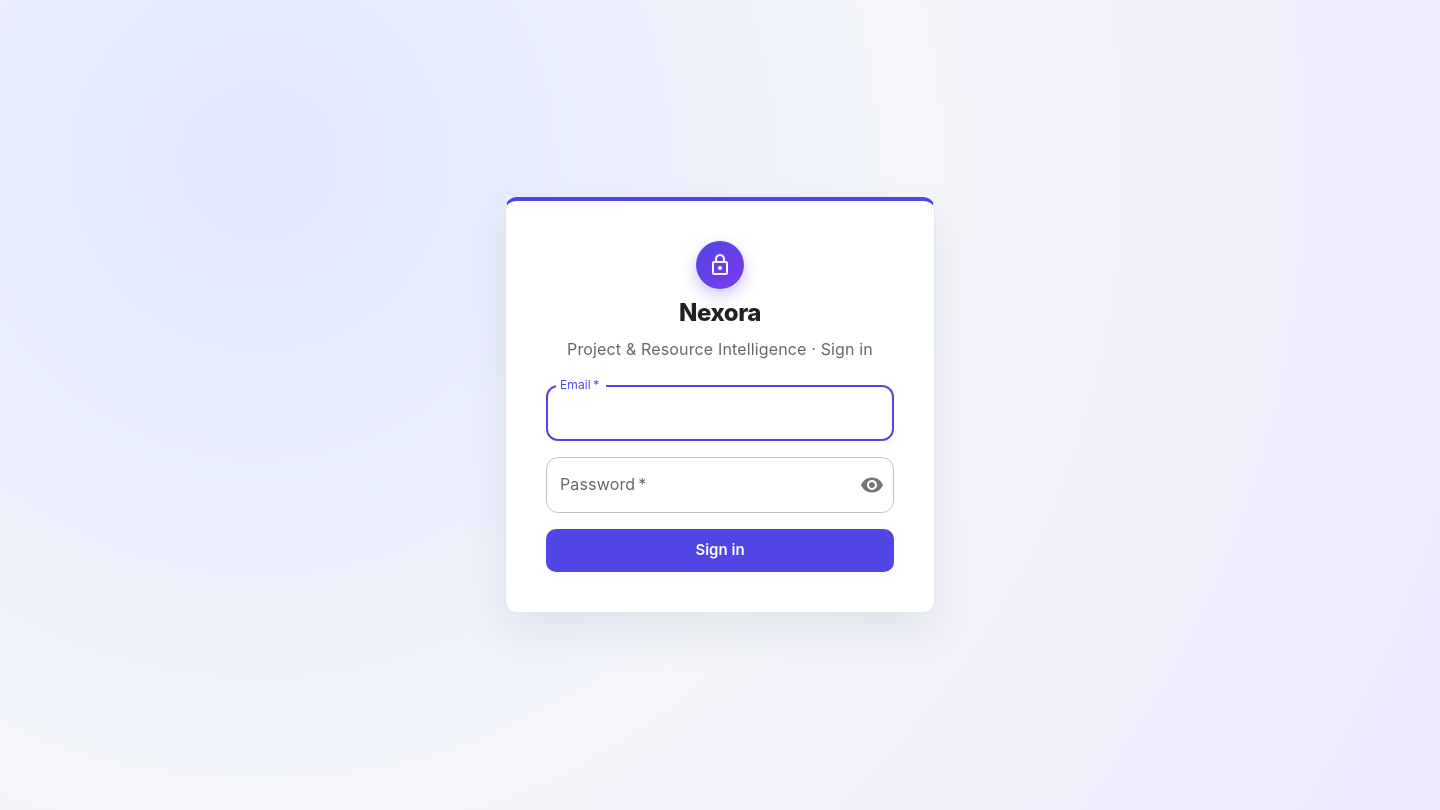
Test case: LoginPage › shows the API error for bad credentials
The width and height of the screenshot is (1440, 810).
Type "admin@acme.com" into the field labelled "Email *" at (720, 413), box top-left (546, 385), bottom-right (894, 441)
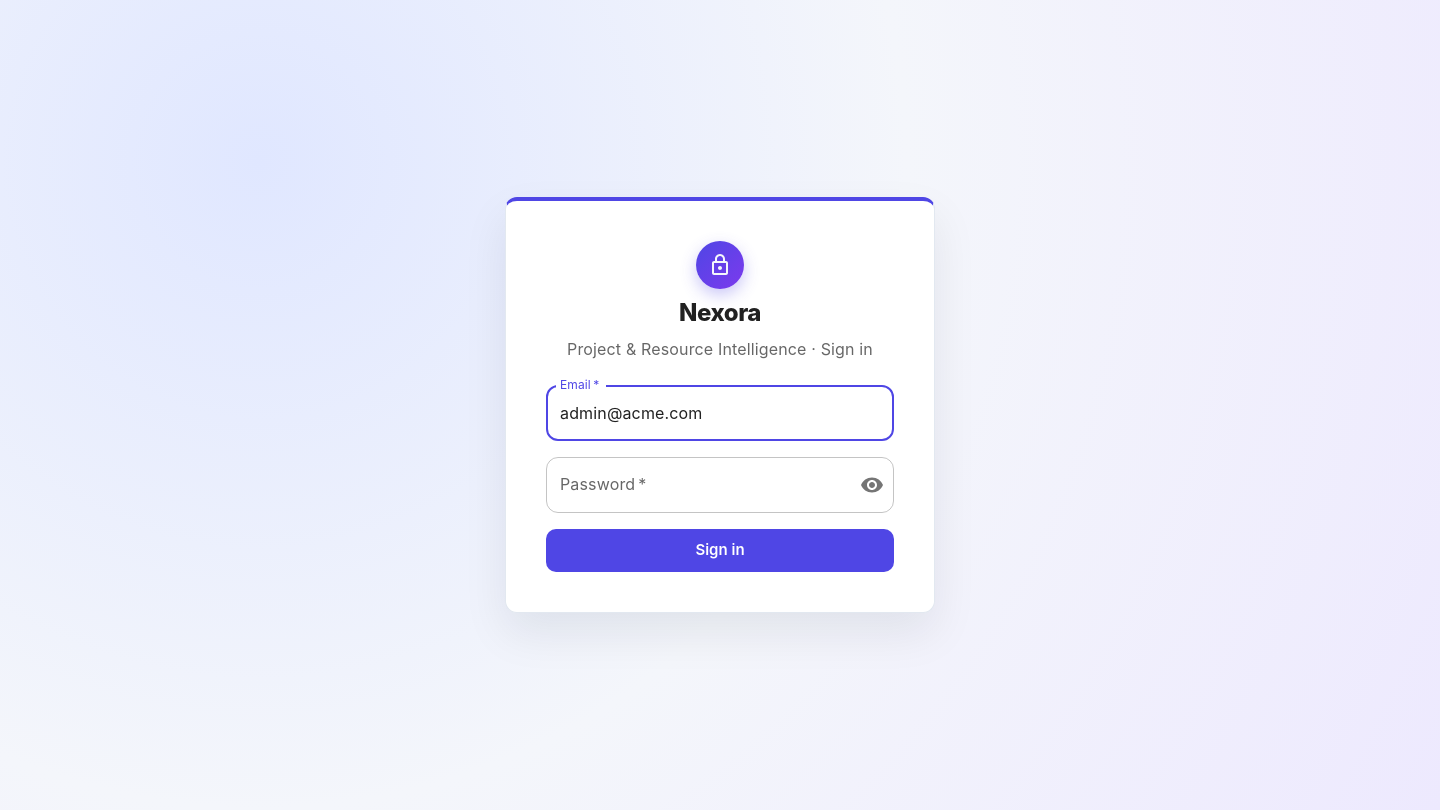
Type "wrong" into the password field labelled "Password *" at (695, 485), box top-left (546, 457), bottom-right (844, 513)
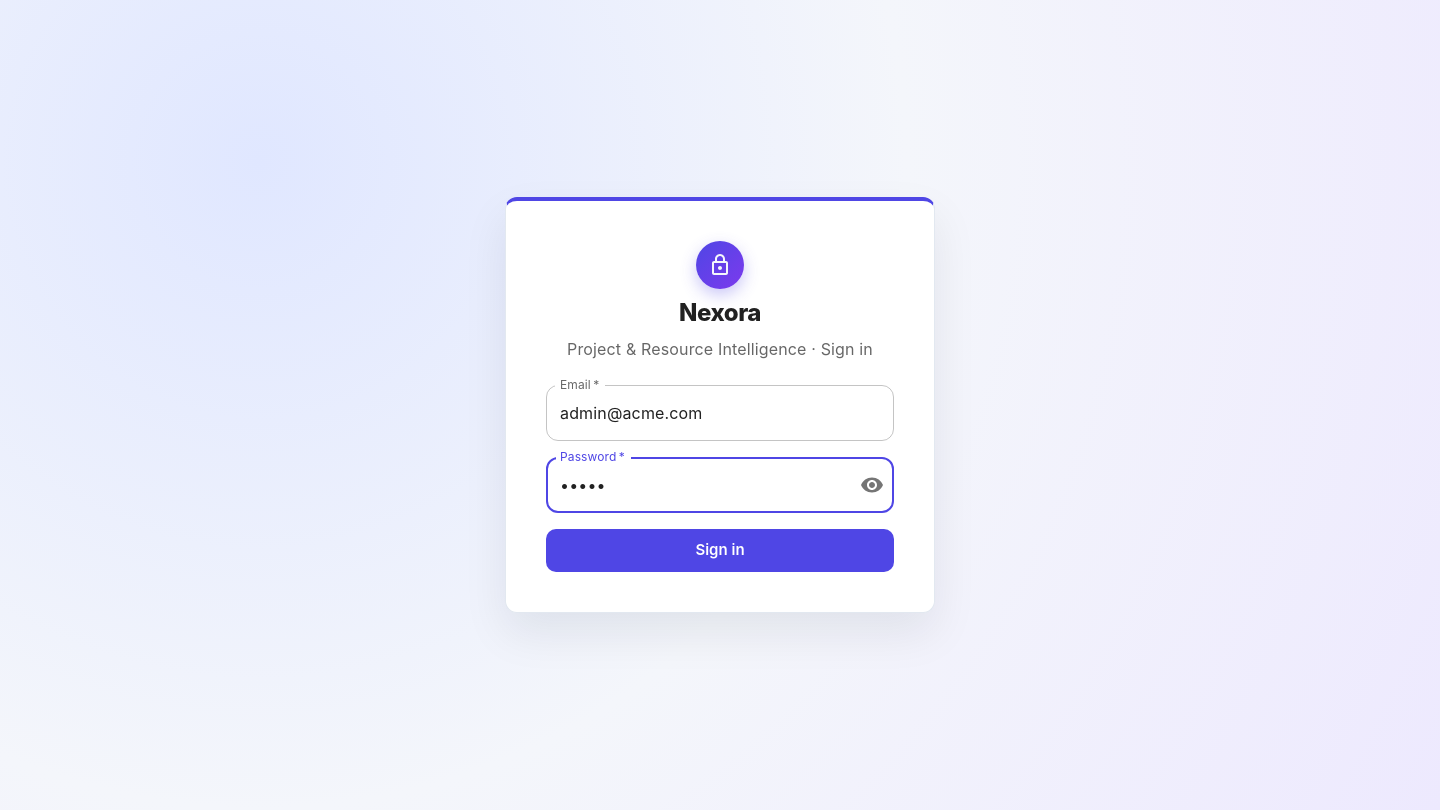
Click the button "Sign in" at (720, 551), box top-left (546, 529), bottom-right (894, 572)
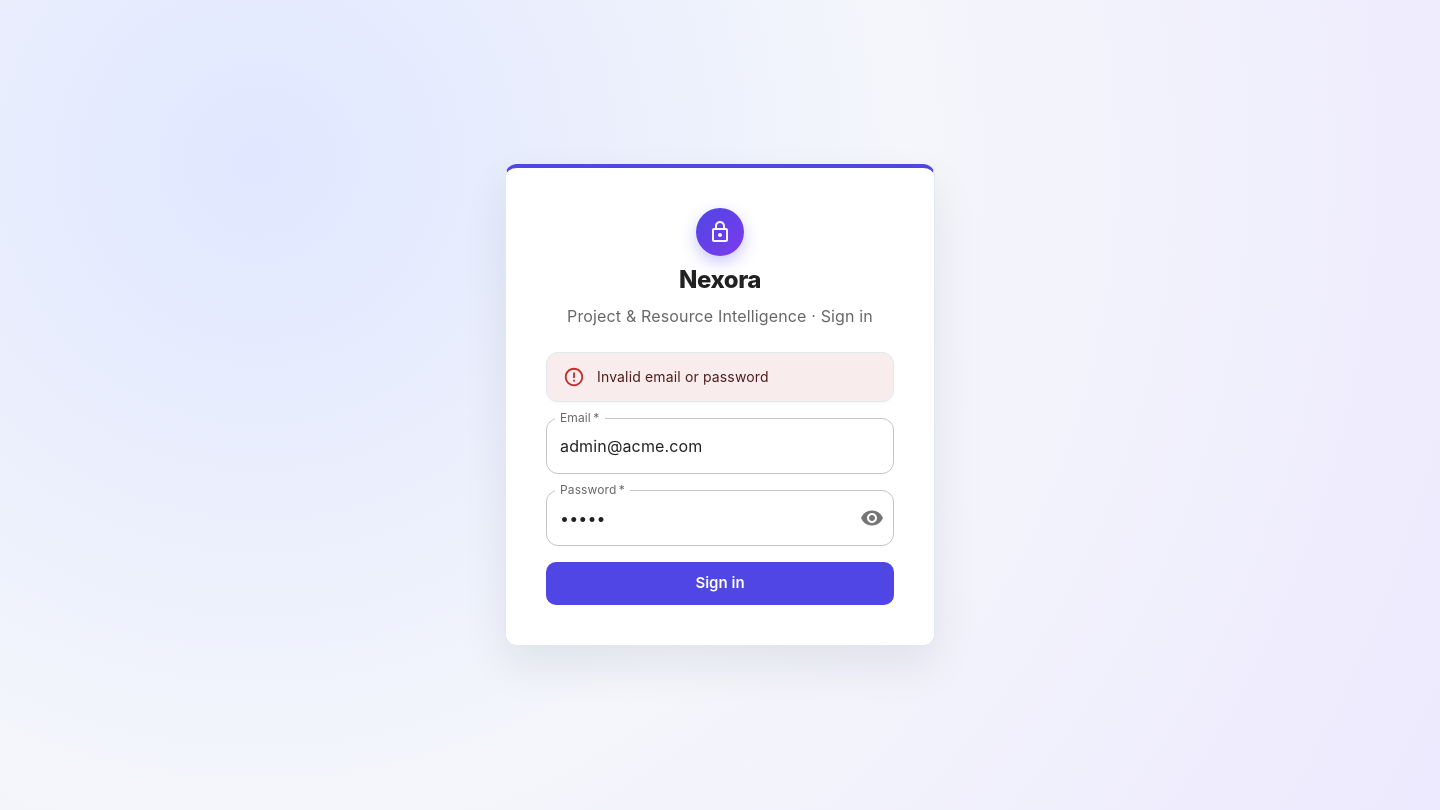
Expected: the button "Sign in" is enabled, top-left (546, 562), bottom-right (894, 605)
Result: the message reads "Invalid email or password" at top-left (597, 368), bottom-right (769, 385)
